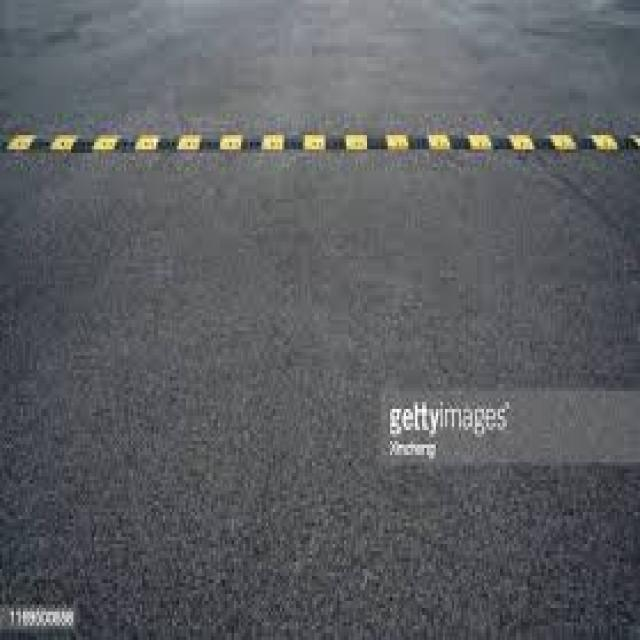Marked Bump: (20, 115, 632, 165)
